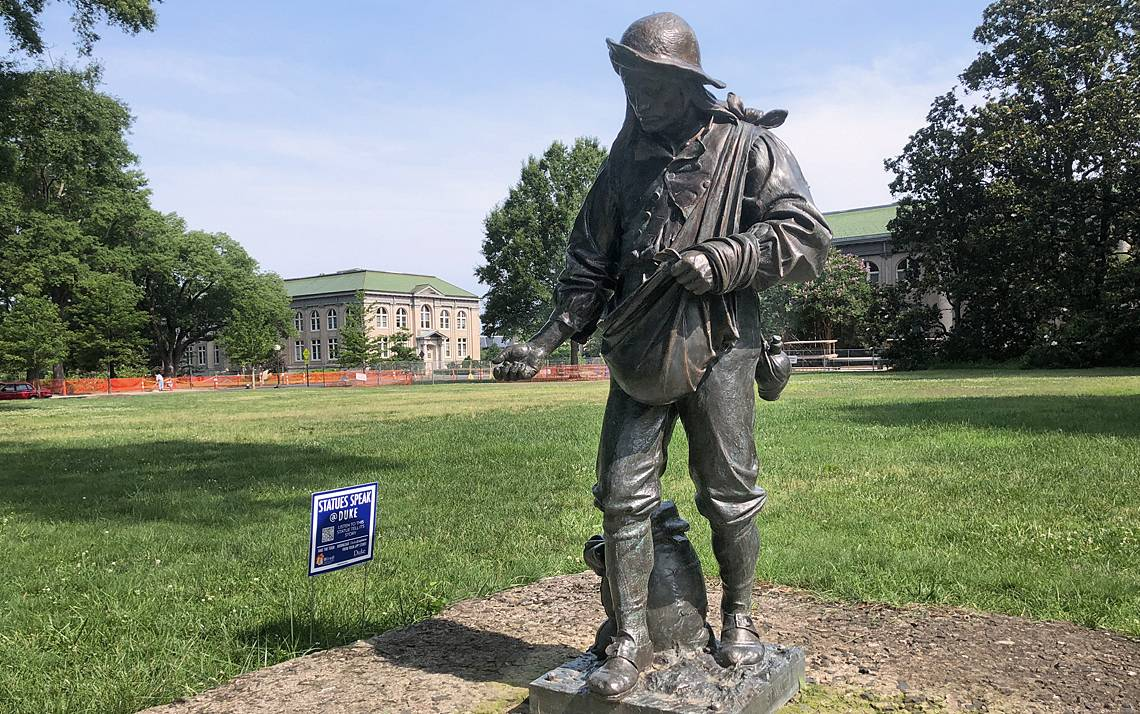person-like: (553, 4, 836, 713)
